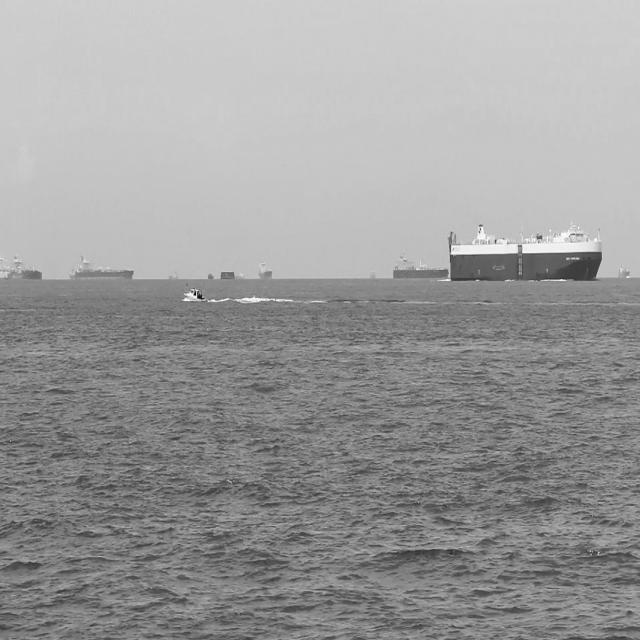ship: (446, 218, 604, 284), (61, 249, 136, 281), (388, 255, 450, 281), (0, 254, 47, 283), (181, 280, 212, 306), (252, 258, 272, 284), (612, 258, 630, 284)
